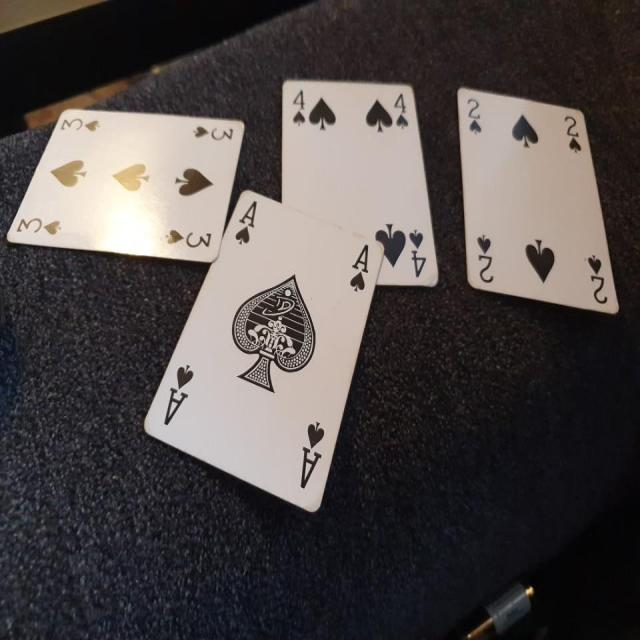2 Spades: (450, 79, 627, 317)
3 Spades: (1, 105, 254, 254)
4 Spades: (272, 70, 442, 304)
A Spades: (146, 185, 396, 530)
